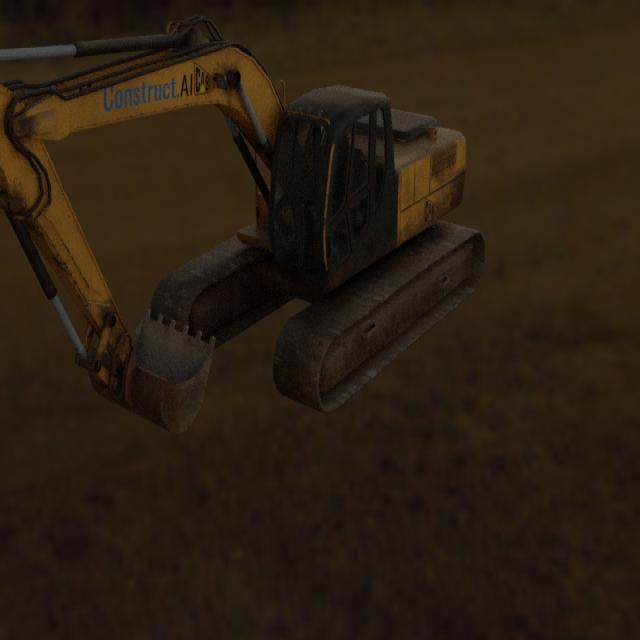excavator: (0, 14, 487, 434)
